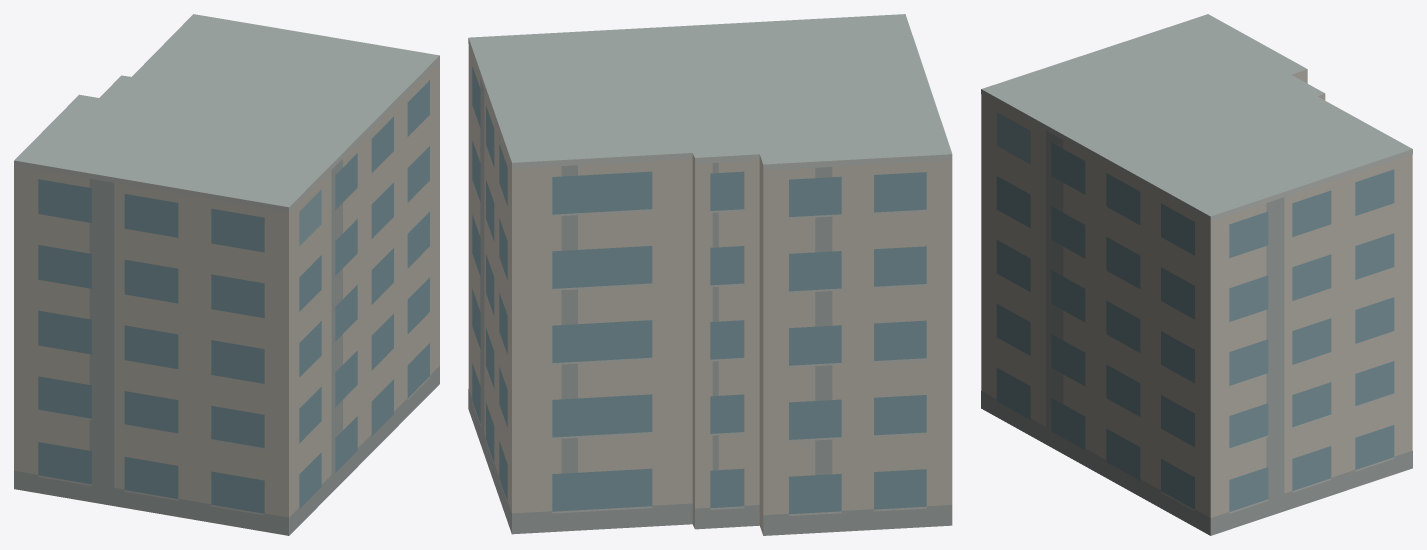
Rendered from survey-upis-33030915.glb.
3 renders of one model, left to right at view 1: azimuth 30°, elevation 25°; view 2: azimuth 150°, elevation 25°; view 3: azimuth 270°, elevation 25°, orthographic. The views are drawn at different scales.
Visible parts, largest first — view 1: survey-upis-33030915.tmp; view 2: survey-upis-33030915.tmp; view 3: survey-upis-33030915.tmp.
Part boxes in pixels (left/top/right/bottom): survey-upis-33030915.tmp: left=14, top=14, right=439, bottom=535; survey-upis-33030915.tmp: left=468, top=14, right=952, bottom=535; survey-upis-33030915.tmp: left=981, top=14, right=1412, bottom=535.
Bounding box in the file's own units: 20.27 × 14.9 × 18.25.
